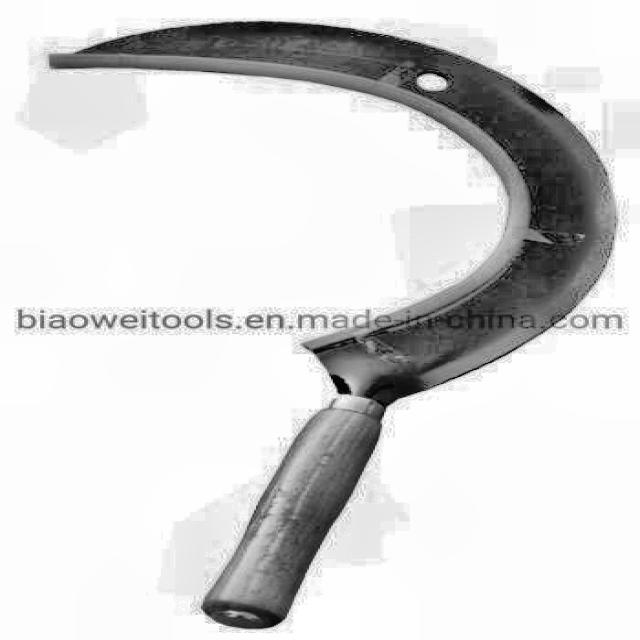celurit: (41, 8, 638, 639)
